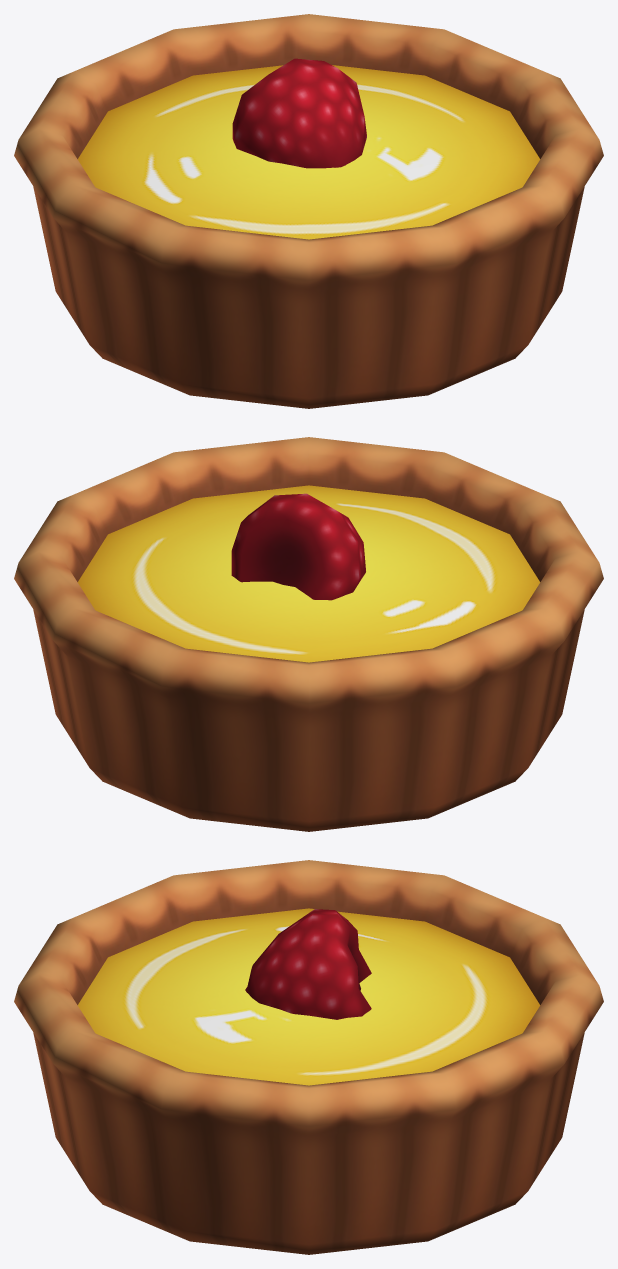
File: 009-Tarts_01.FBX
The picture shows the model from 3 angles, top to bottom: view 1: azimuth 30°, elevation 25°; view 2: azimuth 150°, elevation 25°; view 3: azimuth 270°, elevation 25°; orthographic projection.
Visible parts, largest first — view 1: 009-Tarts_01; view 2: 009-Tarts_01; view 3: 009-Tarts_01.
Boxes of the visible parts, bbox=[...] form: 009-Tarts_01: bbox=[14, 14, 603, 408]; 009-Tarts_01: bbox=[14, 437, 603, 831]; 009-Tarts_01: bbox=[14, 860, 603, 1254].
Bounding box in the file's own units: 13.42 × 5.99 × 13.42.
